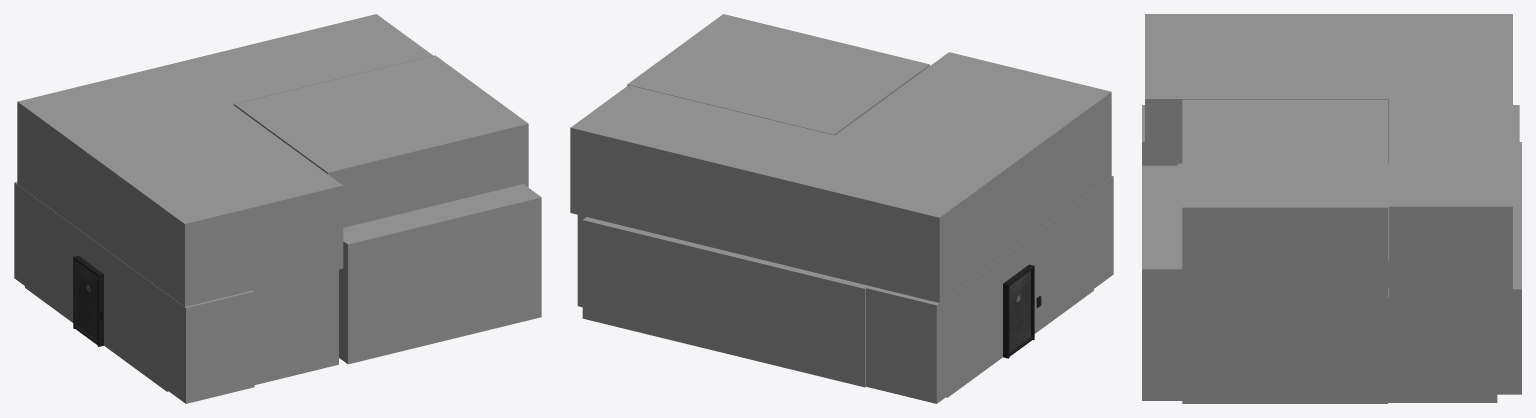
The model's file is SCP 008 Containment Chamber.obj.
3 renders of one model, left to right at view 1: azimuth 30°, elevation 25°; view 2: azimuth 150°, elevation 25°; view 3: azimuth 270°, elevation 25°, orthographic. The views are drawn at different scales.
Parts seen in each view (by area): view 1: Part103, Part27, Part111, Part73, Part91, Part135, Part2, Part69, Door11, Part107, Part26, Part79; view 2: Part73, Part83, Part103, Part27, Part107, Part2, Part69, Part91, Door11, Part26, Part49, Part81; view 3: Part27, Part73, Part85, Part103, Part49, Part111, Part83.
Boxes of the visible parts, x1,y1,x2,y2 form: Part103: (70,104,343,306); Part27: (234,55,528,227); Part111: (339,184,541,364); Part73: (17,14,432,225); Part91: (166,290,254,403); Part135: (253,269,338,384); Part2: (104,248,167,389); Part69: (25,191,78,320); Door11: (77,261,97,340); Part107: (14,181,25,285); Part26: (78,229,104,273); Part79: (97,273,103,346); Part73: (570,85,997,302); Part83: (582,217,868,387); Part103: (835,52,1111,259); Part27: (627,14,929,135); Part107: (866,286,949,403); Part2: (1029,190,1093,331); Part69: (948,257,1002,394); Part91: (1093,176,1113,288); Door11: (1009,270,1030,351); Part26: (1002,238,1029,283); Part49: (577,215,586,307); Part81: (1003,283,1009,358); Part27: (1182,99,1387,272); Part73: (1388,14,1512,297); Part85: (1182,272,1387,403); Part103: (1145,14,1396,165); Part49: (1388,288,1497,402); Part111: (1142,165,1182,400); Part83: (1497,142,1521,394).
Size of the model in its own units: 41.82 by 20.12 by 34.
Materials: 27 (9 with a texture image).
